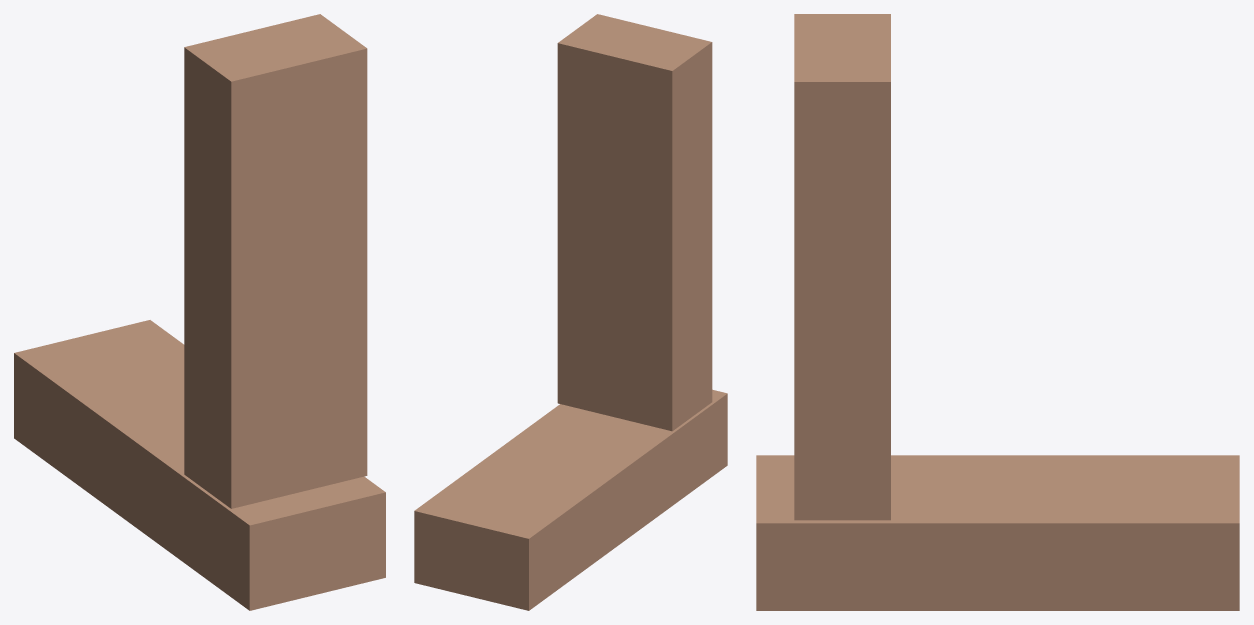
The model's file is env15.dae.
3 views of the same model, side by side, from view 1: azimuth 30°, elevation 25°; view 2: azimuth 150°, elevation 25°; view 3: azimuth 270°, elevation 25° (orthographic). The views are drawn at different scales.
Parts seen in each view (by area): view 1: base (×2); view 2: base (×2); view 3: base (×2).
Part boxes in pixels (x1,y1,x2,y2): base (×2): [14, 14, 385, 610]; base (×2): [414, 14, 727, 610]; base (×2): [756, 14, 1239, 610].
Size of the model in its own units: 0.0508 by 0.1524 by 0.184.
